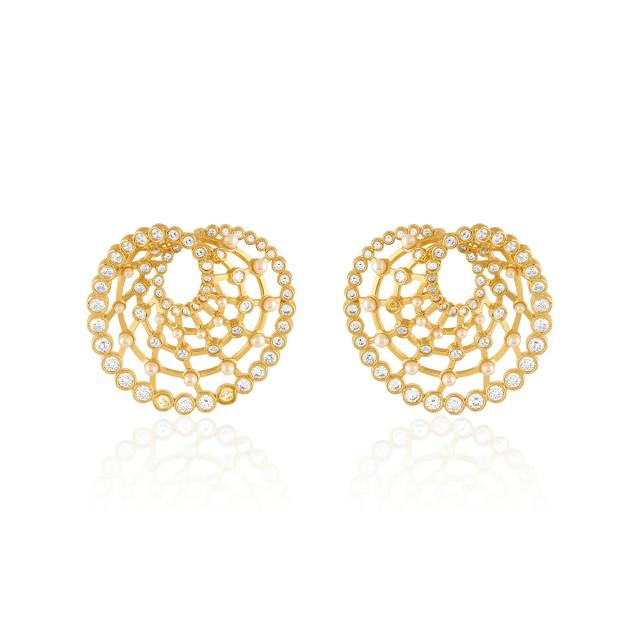missing gem: (155, 395, 171, 409), (220, 388, 234, 402), (388, 300, 400, 312)
